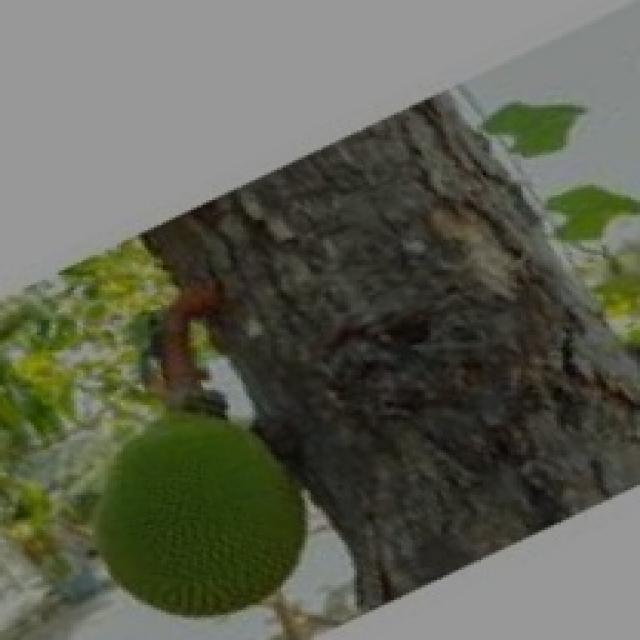Fruit: (62, 388, 329, 638)
